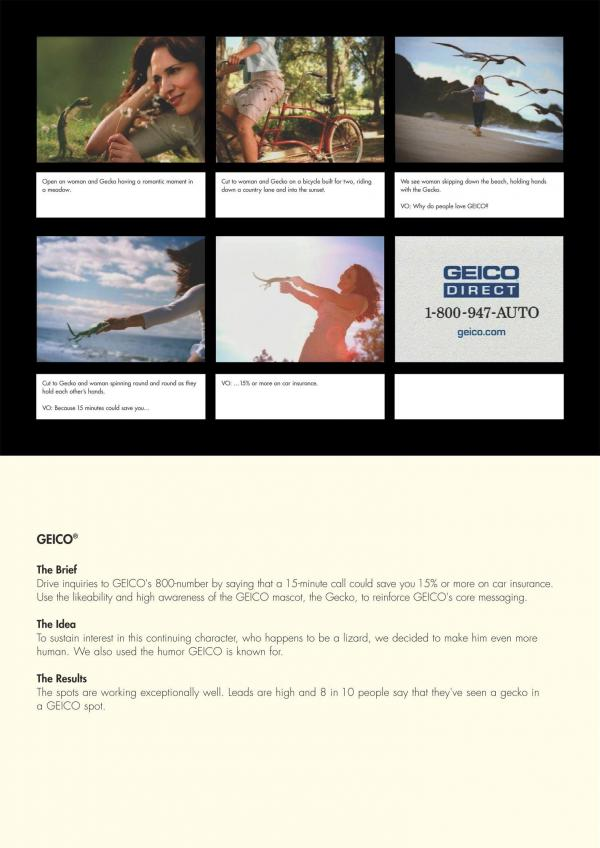Geico: (433, 261, 532, 285)
